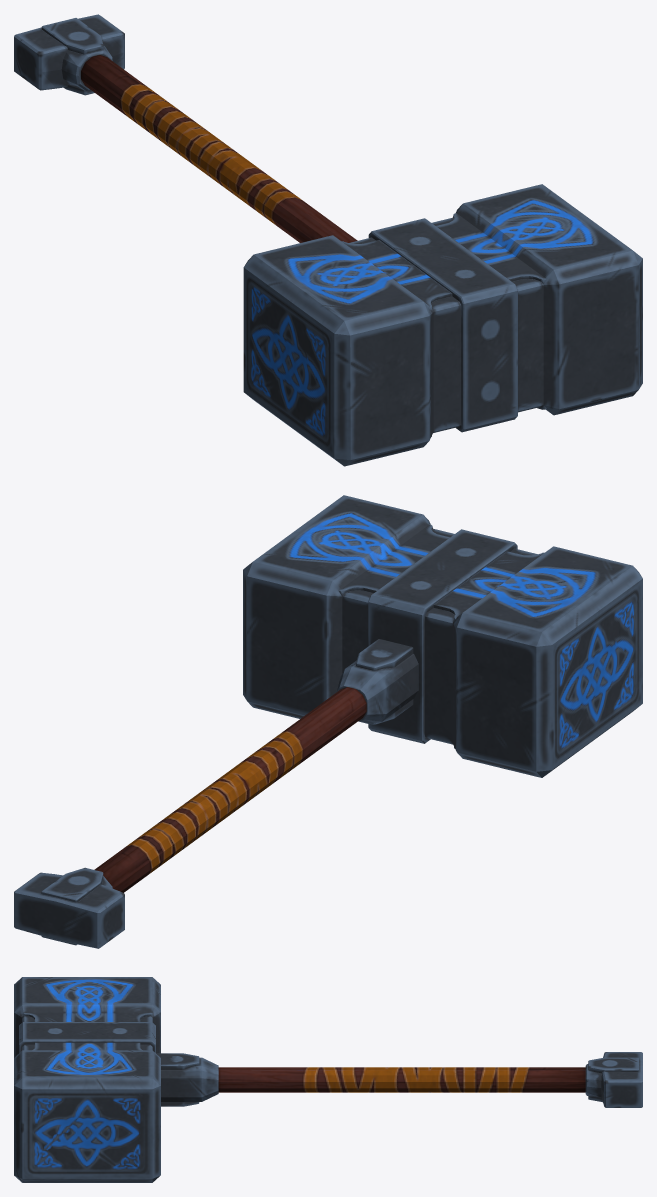
The model's file is Hammer.fbx.
The picture shows the model from 3 angles, top to bottom: view 1: azimuth 30°, elevation 25°; view 2: azimuth 150°, elevation 25°; view 3: azimuth 270°, elevation 25°; orthographic projection. The views are drawn at different scales.
Parts seen in each view (by area): view 1: Hammer; view 2: Hammer; view 3: Hammer.
Part boxes in pixels (<box>): Hammer: <box>14,14,642,466</box>; Hammer: <box>14,495,642,948</box>; Hammer: <box>14,977,642,1182</box>.
Bounding box in the file's own units: 62.42 × 28.15 × 153.
